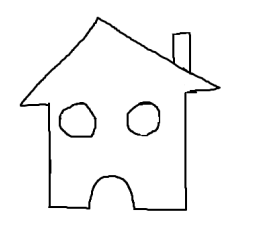chimney: (172, 31, 191, 73)
door: (84, 166, 141, 213)
open_window: (58, 102, 97, 139), (126, 101, 160, 137)
roof: (20, 16, 221, 107)
wall: (44, 94, 191, 212)
